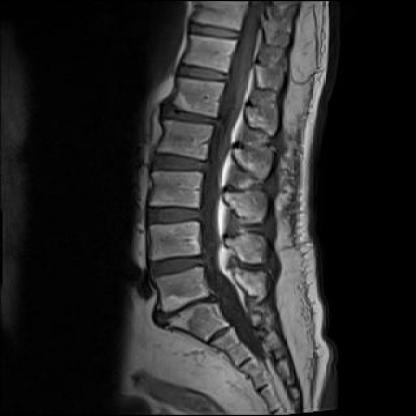Degenerative Disc Diseaserotation: (139, 247, 216, 281), (147, 294, 235, 321)
Disc Bulgerotation: (139, 248, 215, 281), (147, 295, 235, 320)
Disc Relaxationrotation: (141, 199, 209, 230), (147, 148, 211, 179), (158, 102, 222, 133)
